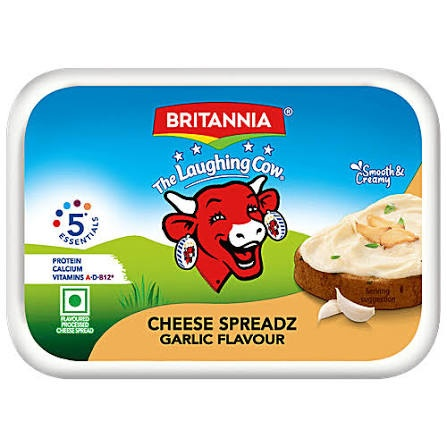Britannaia chaeese spreadz: (0, 69, 440, 395)
